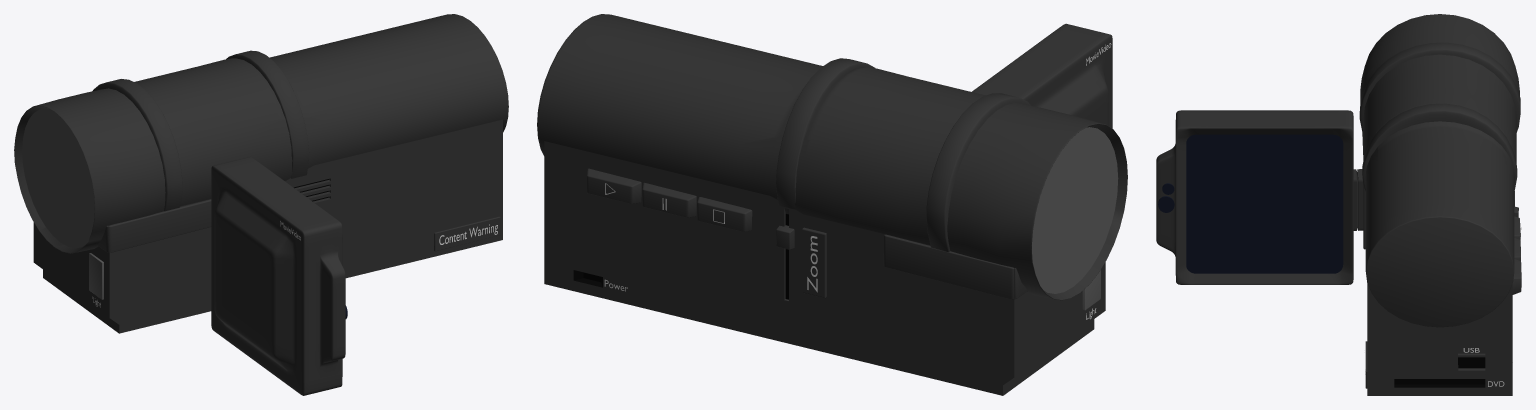
The model's file is ContentWarningCamera.fbx.
3 views of the same model, side by side, from view 1: azimuth 30°, elevation 25°; view 2: azimuth 150°, elevation 25°; view 3: azimuth 270°, elevation 25° (orthographic). The views are drawn at different scales.
Parts seen in each view (by area): view 1: Корпус, Основание, Монитор, Камера, Элемент.4, Целиндр 2, Целиндр, Элемент.2, Фонарик.Внеш; view 2: Корпус, Основание, Камера, Монитор, Элемент.6, Целиндр 2, Целиндр, Элемент.1, Кнопка 1, Кнопка 3, Кнопка 2; view 3: Корпус, Экран, Основание, Монитор, Целиндр, Целиндр 2, Держатель.
Part boxes in pixels (x1,y1,x2,y2): Корпус: (14, 14, 508, 253); Основание: (33, 119, 502, 333); Монитор: (211, 156, 345, 395); Камера: (22, 108, 94, 248); Элемент.4: (108, 199, 211, 252); Целиндр 2: (92, 79, 182, 211); Целиндр: (226, 50, 309, 178); Элемент.2: (434, 216, 500, 251); Фонарик.Внеш: (89, 253, 103, 299); Корпус: (537, 14, 1127, 300); Основание: (544, 141, 1105, 395); Камера: (1032, 127, 1118, 293); Монитор: (972, 23, 1112, 128); Элемент.6: (883, 234, 1015, 299); Целиндр 2: (926, 93, 1030, 251); Целиндр: (776, 58, 874, 214); Элемент.1: (802, 227, 826, 298); Кнопка 1: (587, 168, 641, 203); Кнопка 3: (697, 197, 752, 231); Кнопка 2: (642, 182, 696, 217); Корпус: (1360, 14, 1519, 327); Экран: (1186, 134, 1343, 273); Основание: (1367, 283, 1512, 395); Монитор: (1156, 110, 1353, 284); Целиндр: (1362, 103, 1517, 191); Целиндр 2: (1359, 42, 1520, 133); Держатель: (1353, 169, 1363, 230).
Bounding box in the file's own units: 668 × 332 × 533.
